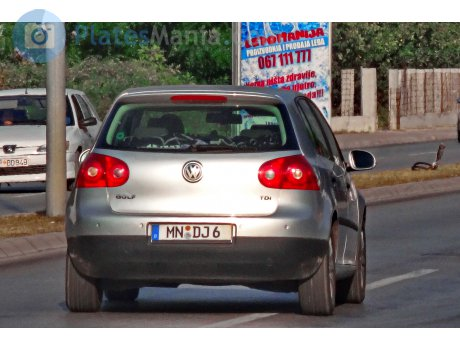License Plates: (156, 225, 226, 236)
